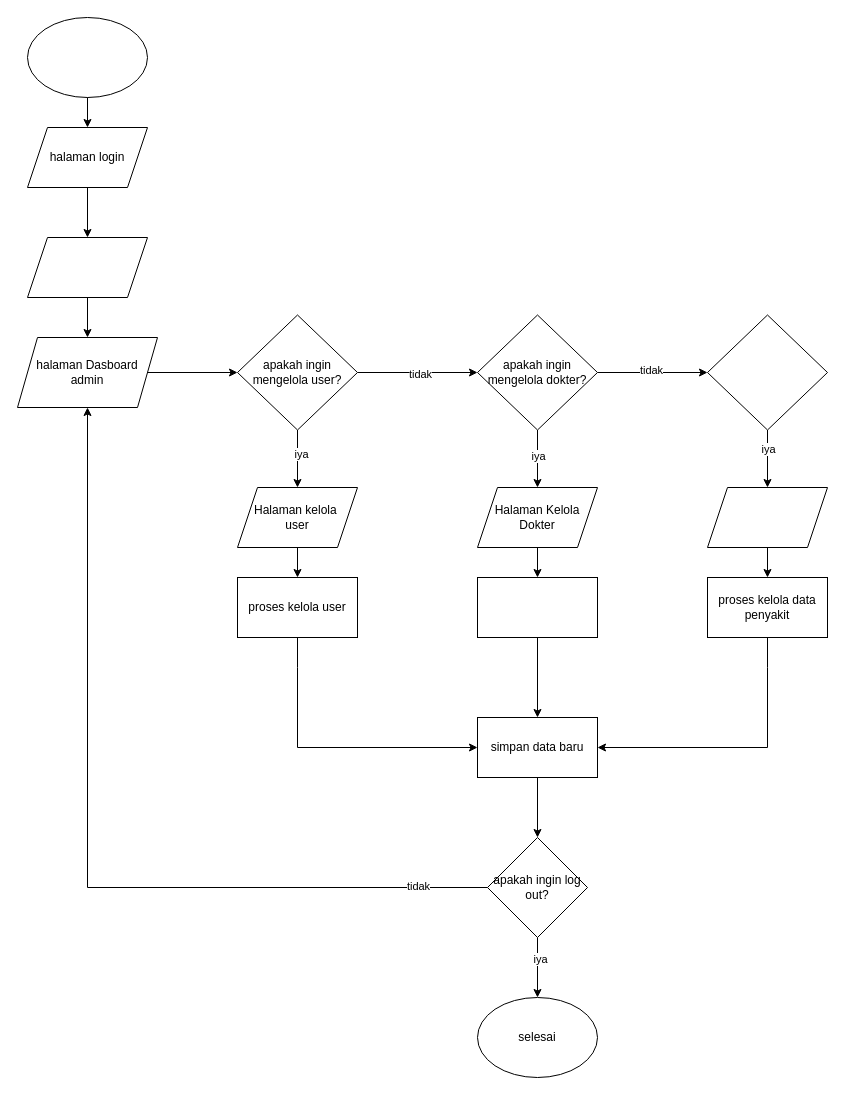
Image size: 845x1095. Some labels were removed from this diagram. Here are the shapes that lost their labels. From the top down, the box of each, then its label:
(26, 16, 148, 98): mulai
(26, 236, 148, 298): input data login
(706, 314, 828, 430): apakah ingin mengelola data penyakit?
(706, 486, 828, 548): Halaman kelola data penyakit
(476, 576, 598, 638): proses kelola dokter
